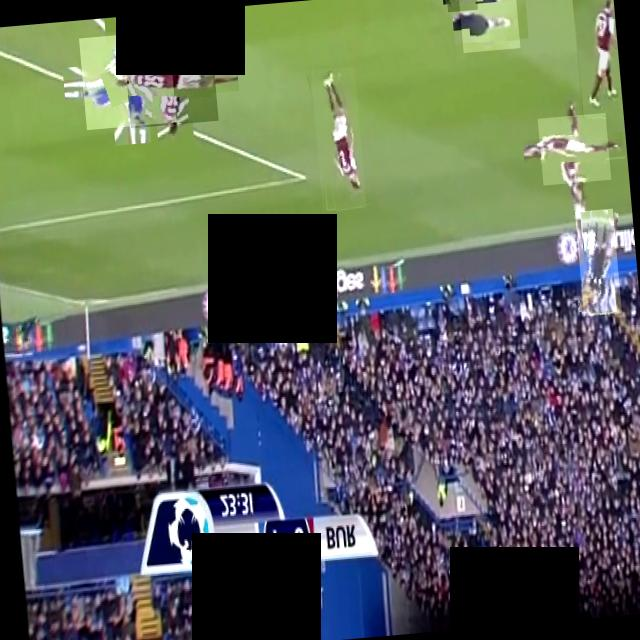referee: (574, 208, 622, 316), (458, 0, 520, 52)
soccer-player: (78, 30, 176, 130), (122, 31, 218, 128), (310, 66, 366, 211), (571, 0, 623, 117), (537, 112, 611, 185), (445, 0, 477, 12)
